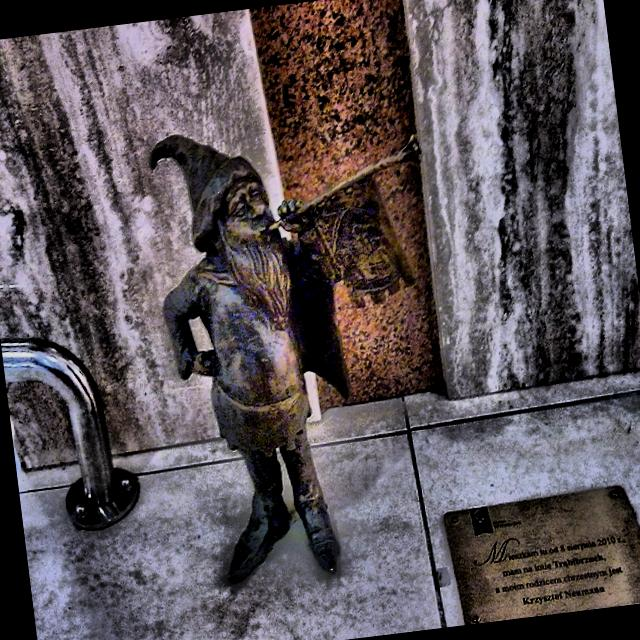Trabibrzuch: (151, 135, 419, 582)
